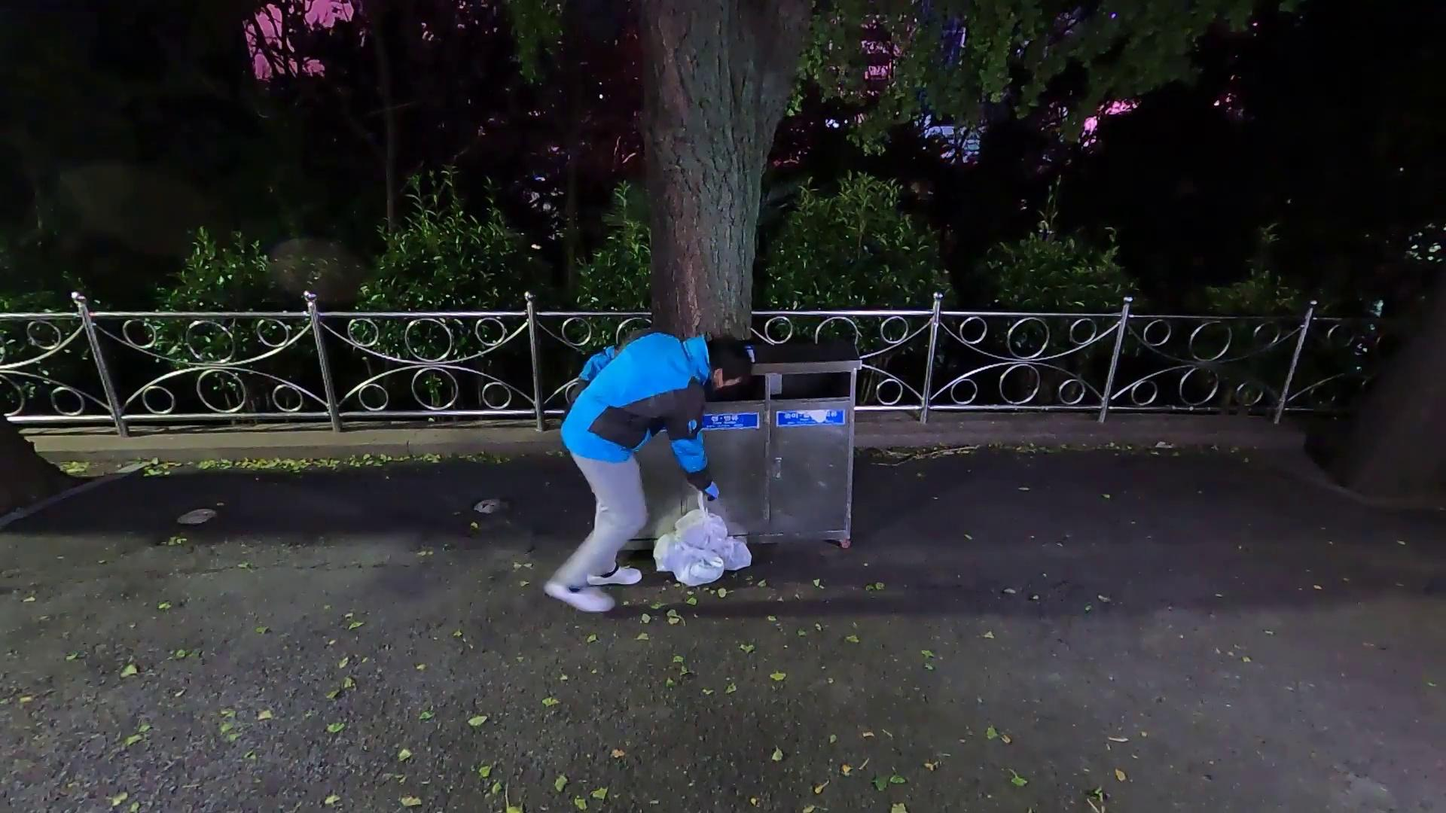person: (544, 330, 752, 616)
trash: (672, 487, 727, 553), (652, 527, 707, 577), (671, 541, 729, 588), (704, 529, 754, 574)
